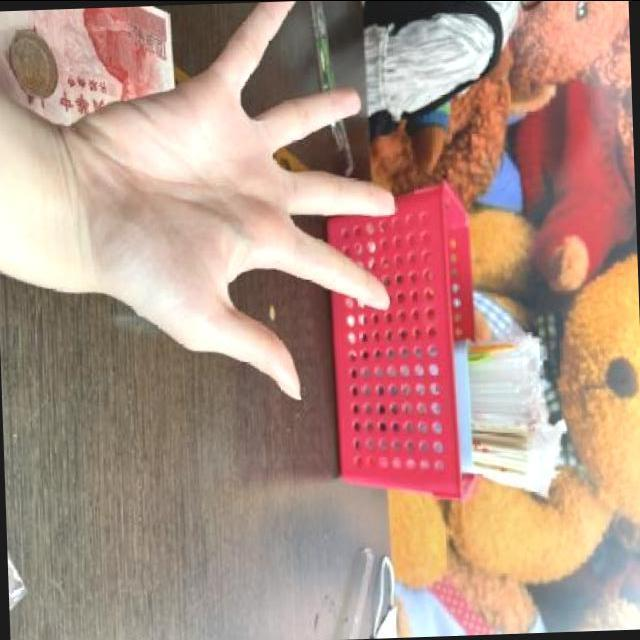hand: (45, 0, 425, 416)
